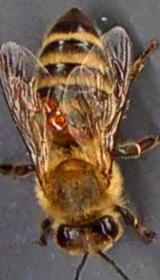varroa_mite: (44, 106, 70, 134)
